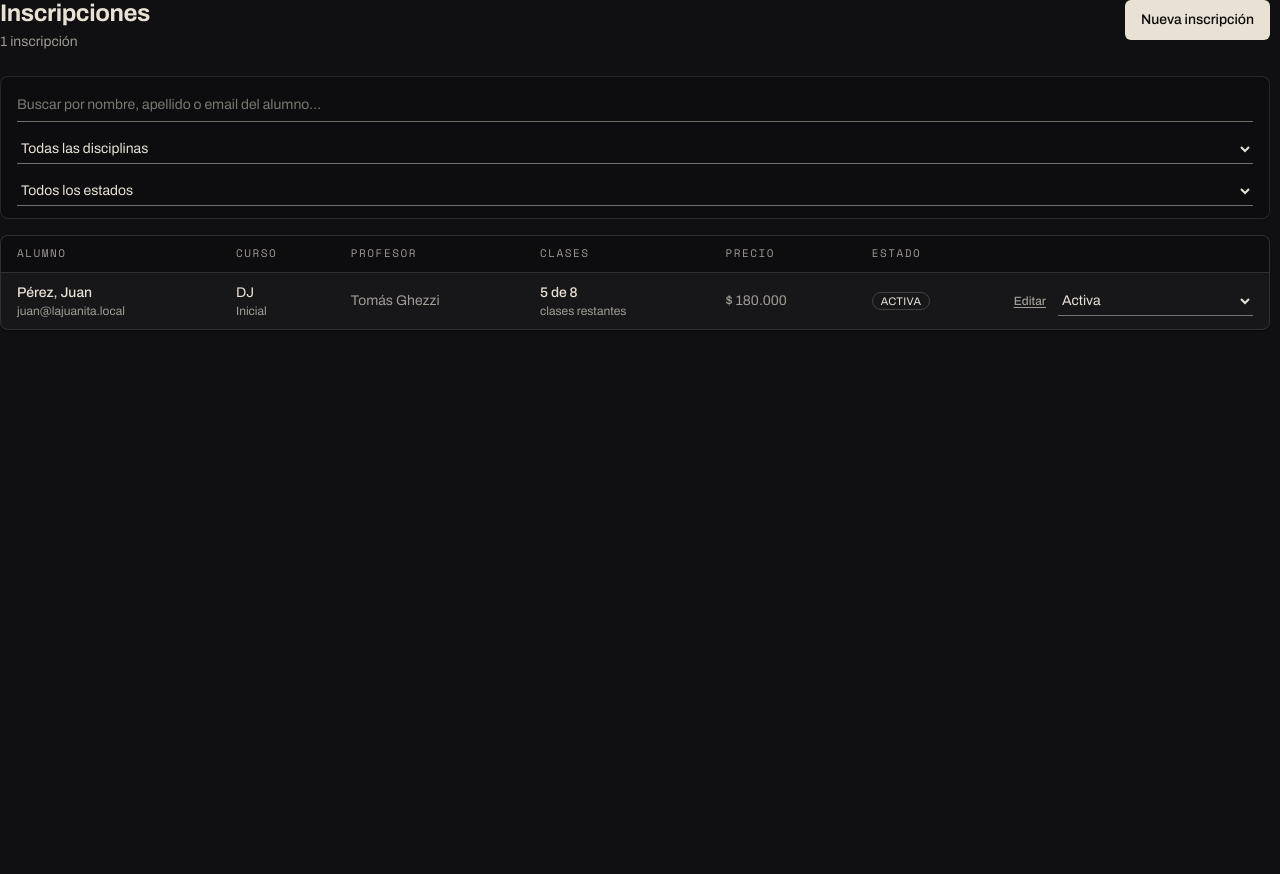
Test case: las clases de fábrica del curso (§13, P34 — desde V28, del catálogo) › la mentoría queda vacía y no se envía sin decir cuántas clases son
Step 1. Click the button "Nueva inscripción" → (1197, 20), box [1125,0,1270,40]
(page scrolled)
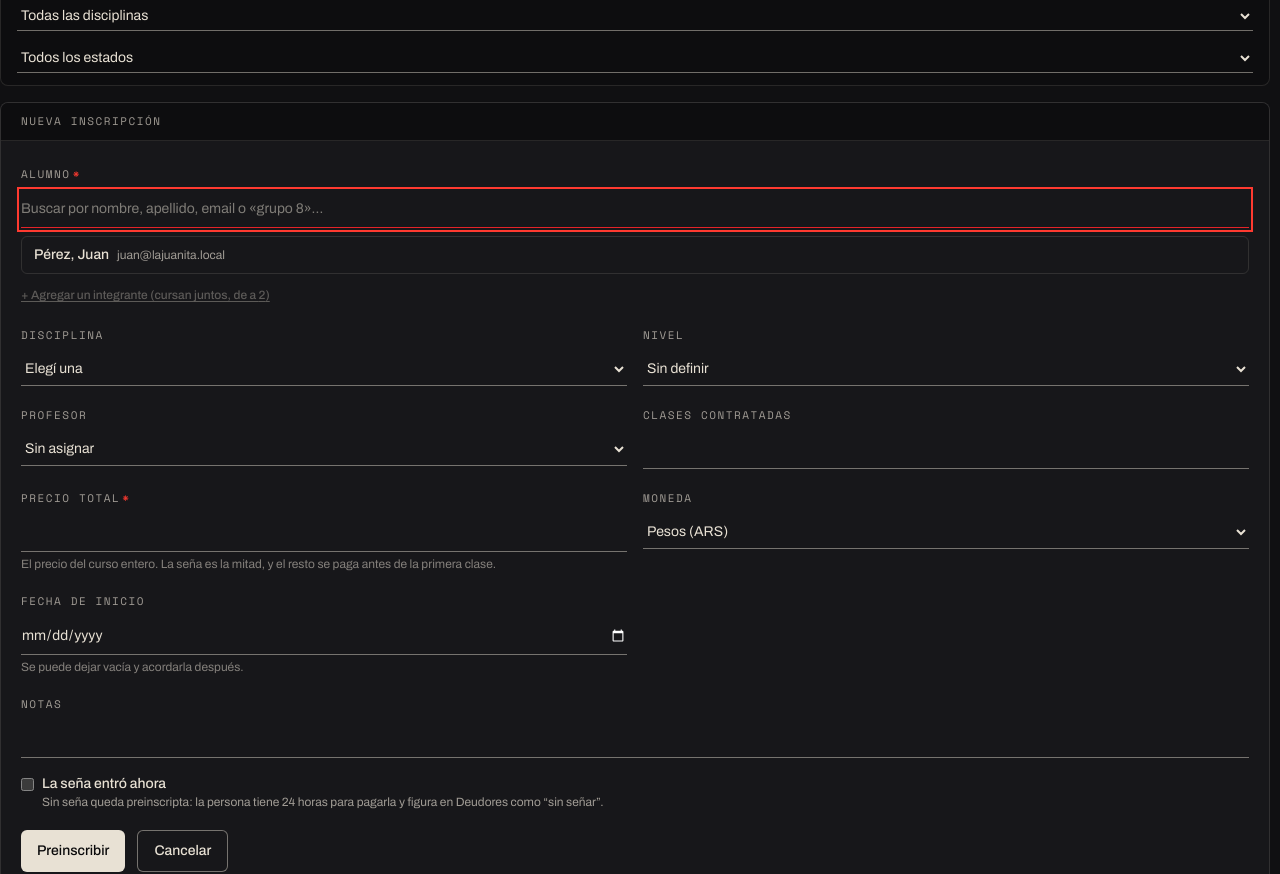
Step 2. Click the button "Pérez, Juan" → (52, 254), box [22,237,1248,273]
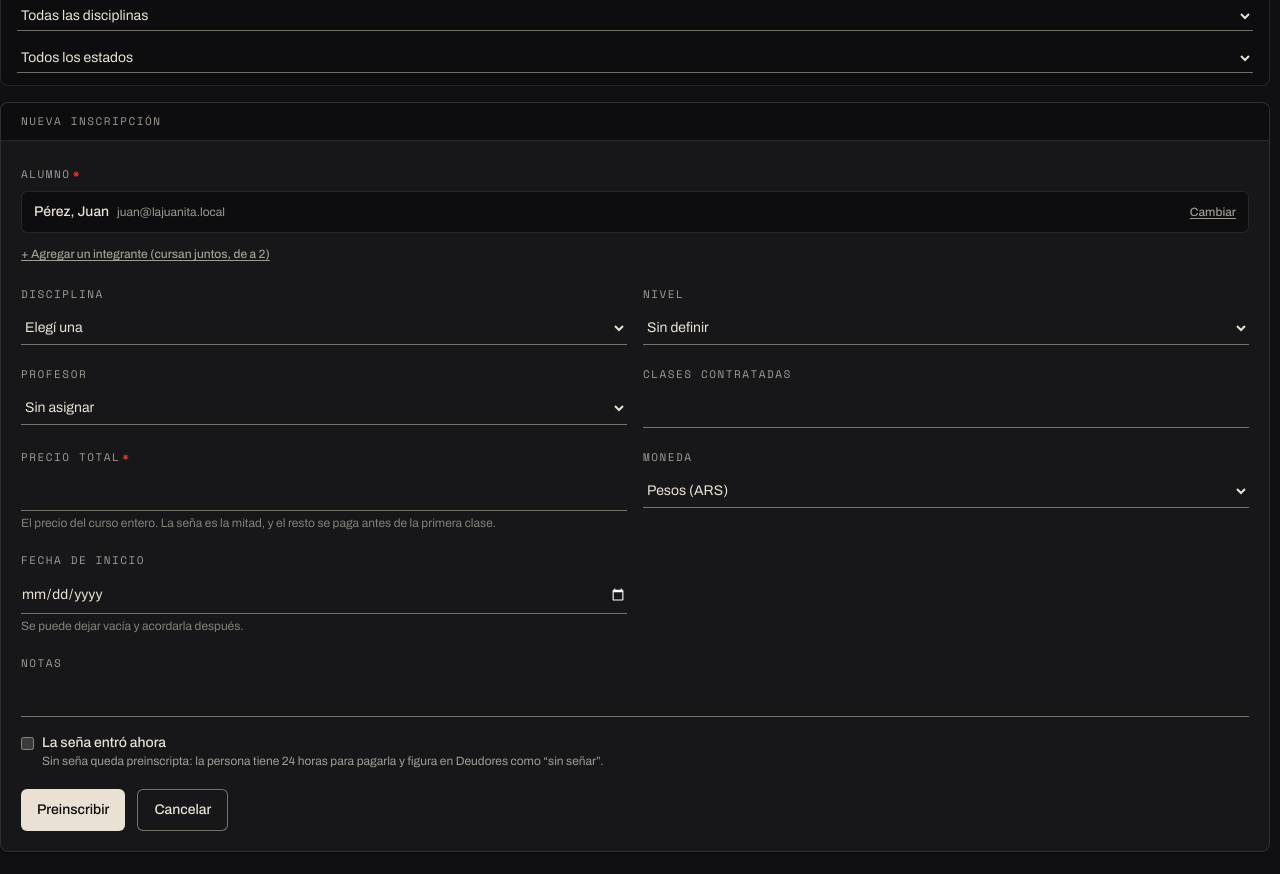
Step 3. Select "Mentoría" in the dropdown labelled "Disciplina" → (324, 328), box [21,311,627,345]
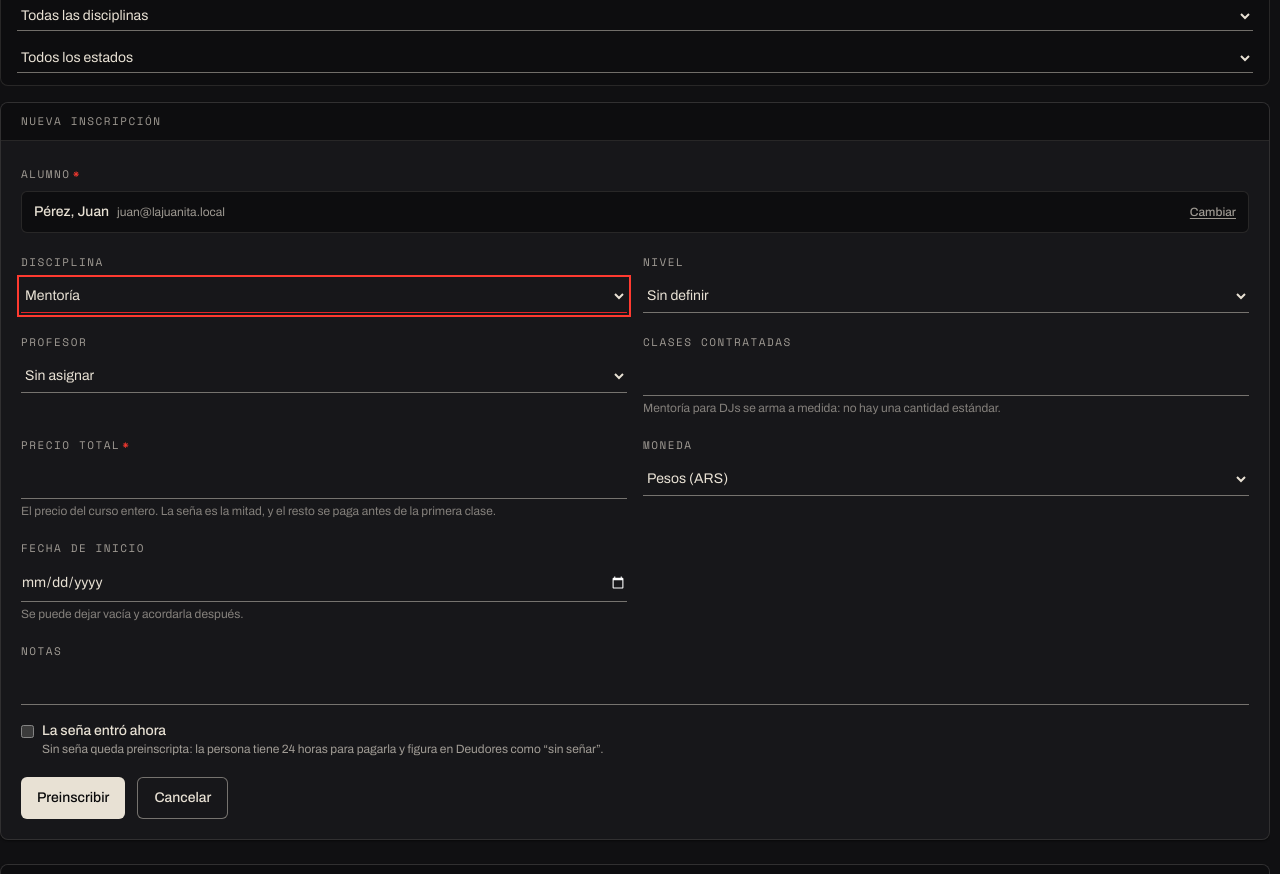
Now the number field labelled "Clases contratadas" is empty, box [643,359,1249,396]
Step 4. Type "90000" into the number field labelled "Precio total" → (324, 480), box [21,462,627,499]
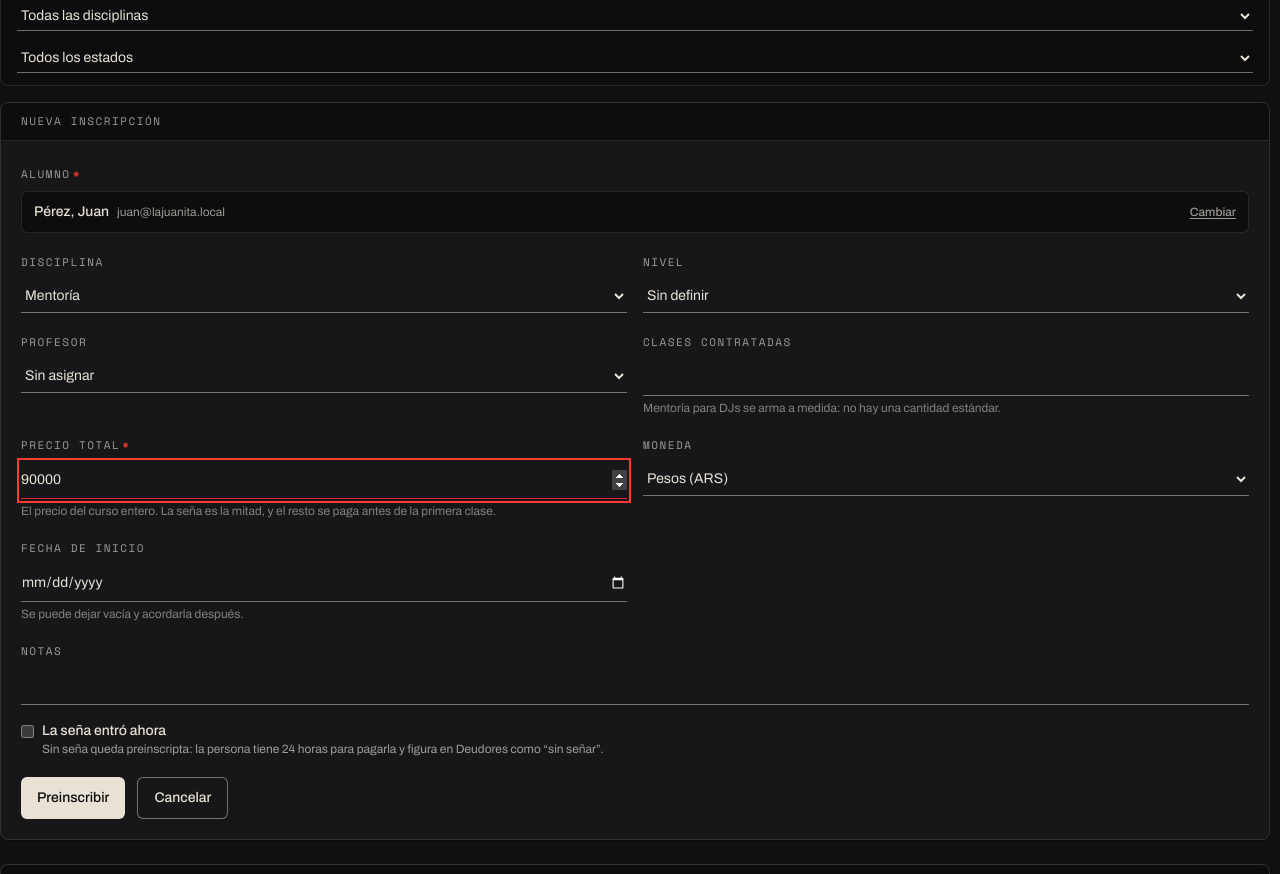
Step 5. Click the button "Preinscribir" → (73, 798), box [21,777,125,819]
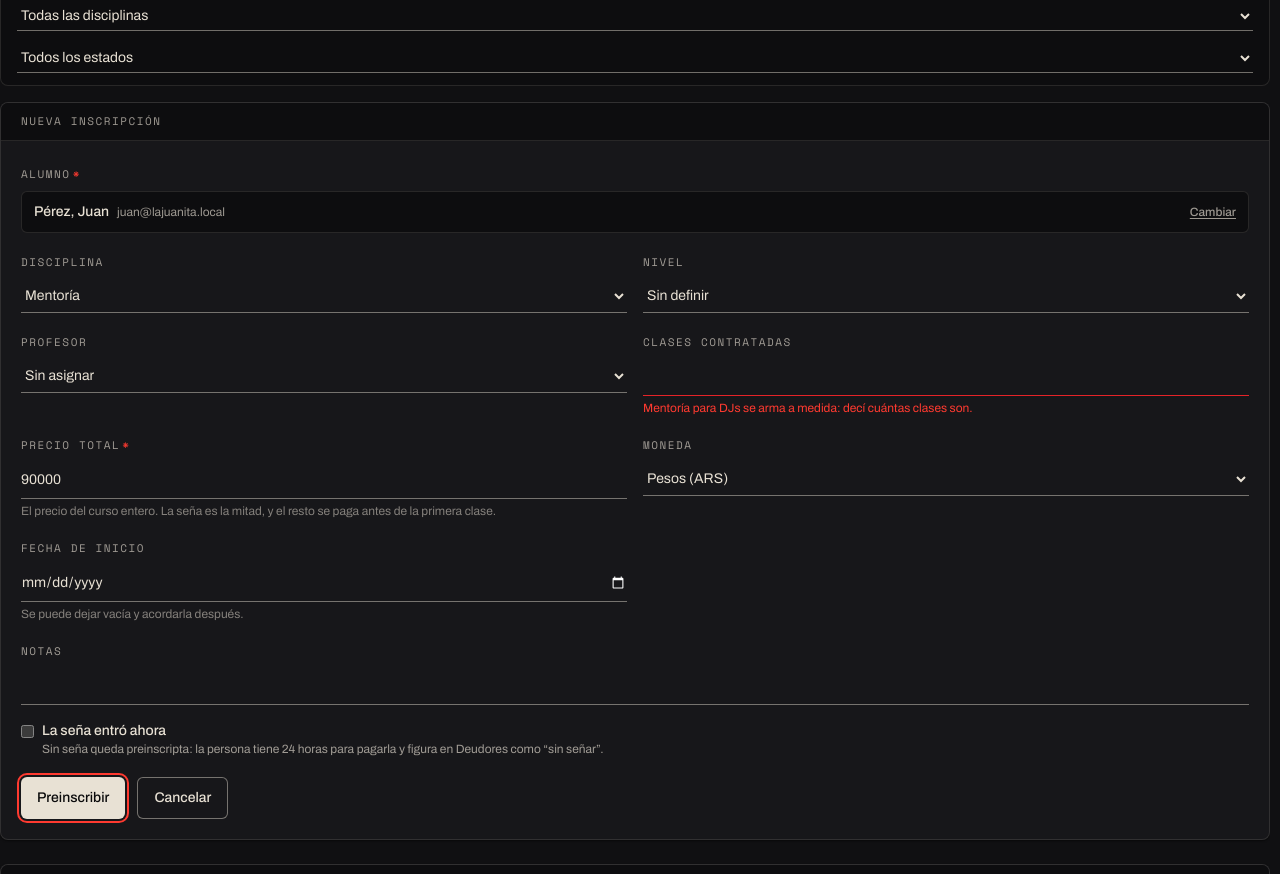
Now the text "Mentoría para DJs se arma a medida: decí cuántas clases son." is shown, box [643,401,973,415]
